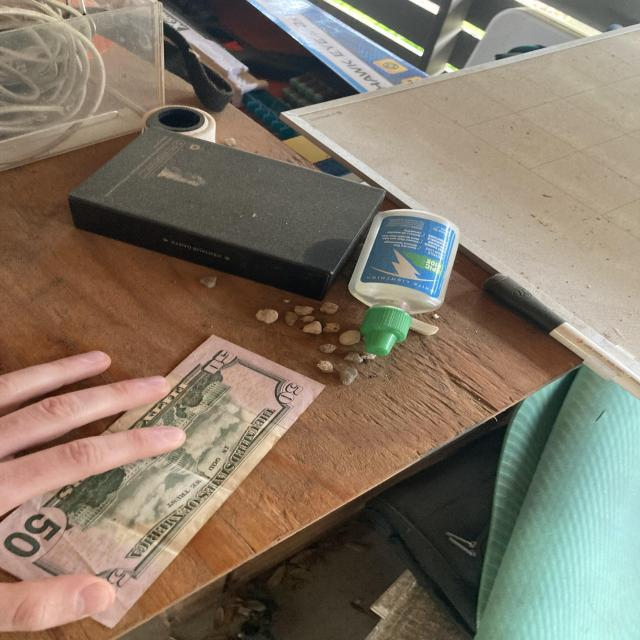fifty: (0, 285, 326, 640)
